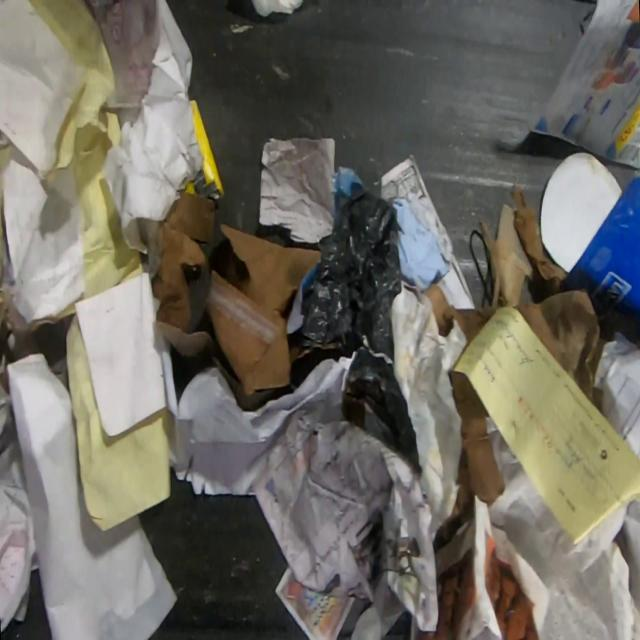cardboard: (204, 221, 342, 398), (539, 150, 640, 320), (136, 191, 216, 359), (511, 287, 608, 415), (438, 370, 506, 544), (509, 183, 570, 294), (477, 201, 535, 309), (177, 96, 226, 199), (422, 282, 496, 345), (344, 382, 398, 448)
soft_plastic: (284, 183, 421, 474), (250, 0, 303, 17)
